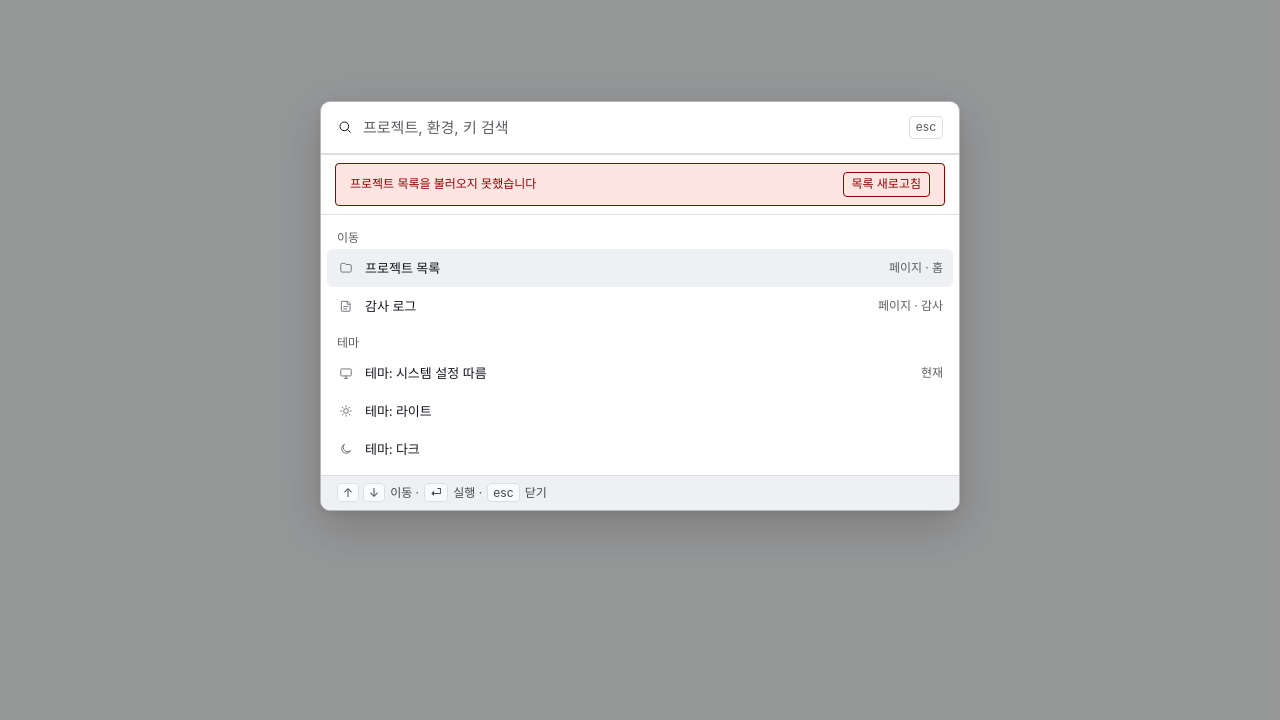
CommandPalette › renders the 프로젝트 실패 banner when the projects query errors and refetches on click
Expected: the message shows "프로젝트 목록을 불러오지 못했습니다", top-left (350, 176), bottom-right (536, 191)
Click the button "목록 새로고침" at (886, 184), box top-left (842, 172), bottom-right (930, 197)
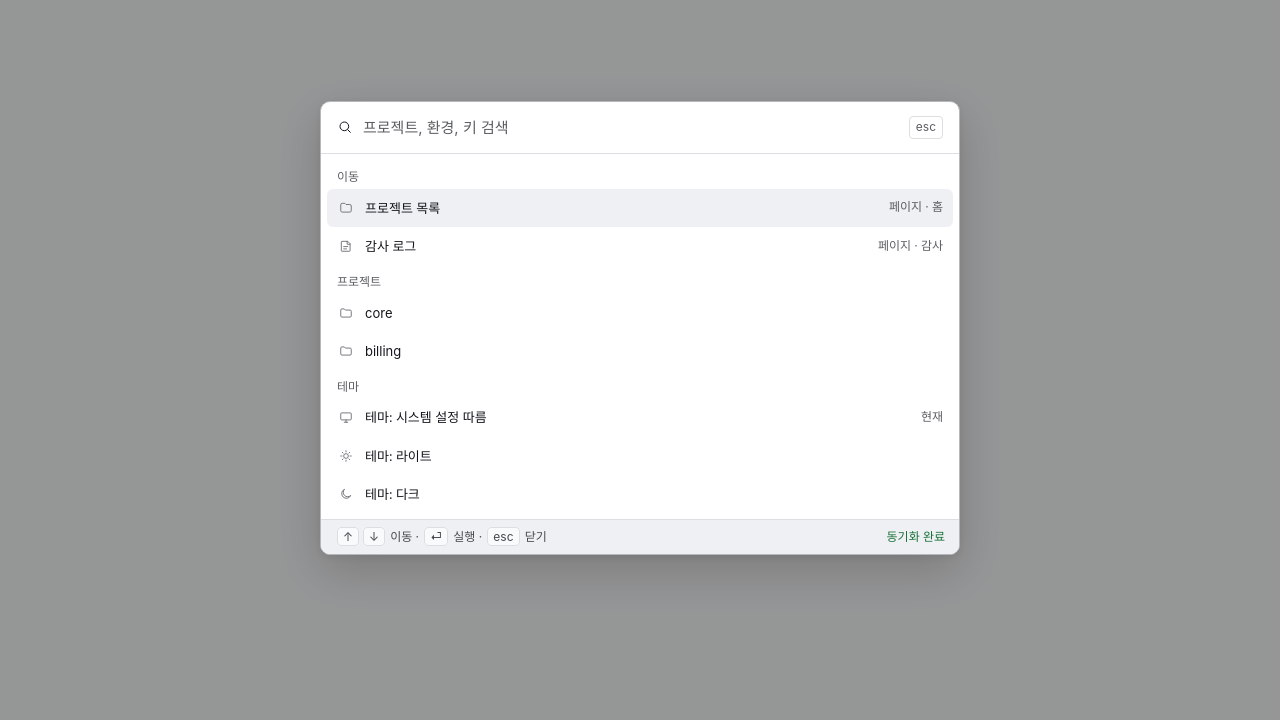
Result: the message "프로젝트 목록을 불러오지 못했습니다 목록 새로고침" is gone
Result: the element named "프로젝트" is shown at top-left (339, 304), bottom-right (401, 359)
